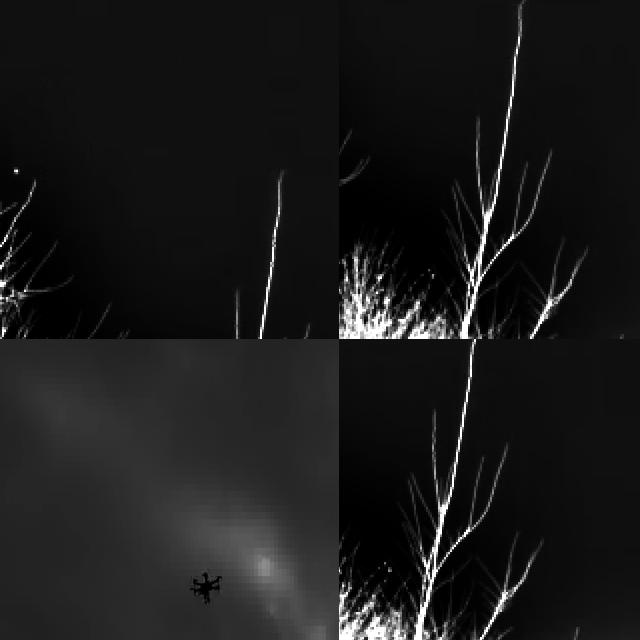0: (7, 162, 29, 187)
drone: (187, 560, 223, 613)
